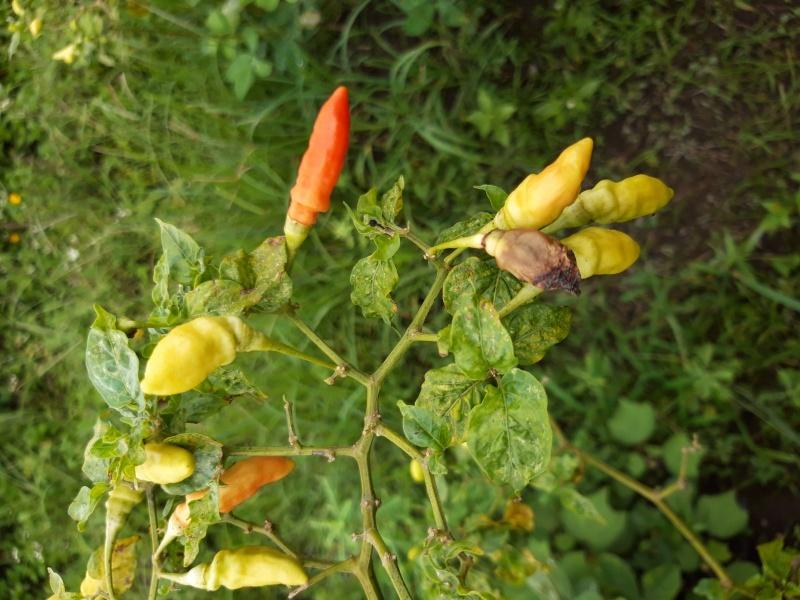antraknosa: (496, 230, 578, 296)
cabai_normal: (174, 456, 294, 528), (503, 136, 594, 230), (288, 88, 351, 222), (142, 316, 242, 396), (556, 225, 641, 282), (204, 546, 310, 586), (583, 178, 673, 223), (127, 443, 196, 480)
